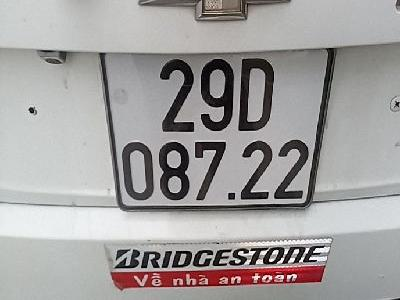lisence: (98, 48, 340, 212)
